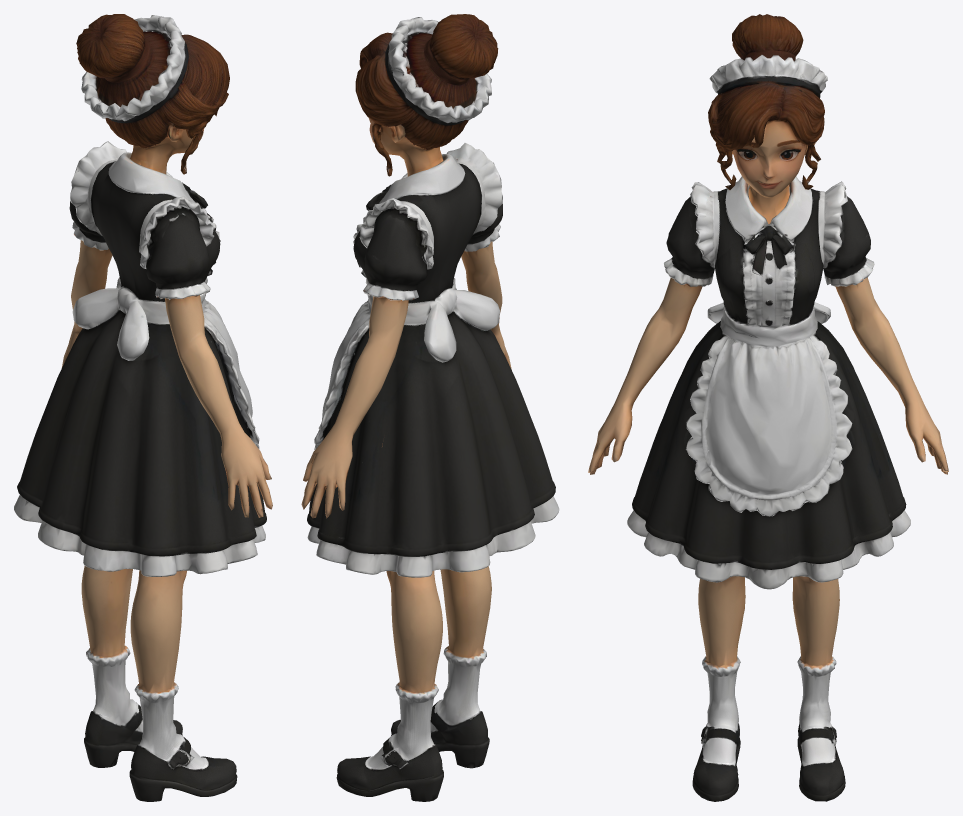
File: MaidNPC.glb
The picture shows the model from 3 angles, left to right: view 1: azimuth 30°, elevation 25°; view 2: azimuth 150°, elevation 25°; view 3: azimuth 270°, elevation 25°; orthographic projection. The views are drawn at different scales.
Visible parts, largest first — view 1: tripo_node_4350d9ce-93d7-44ef-a7cd-798329e3588b; view 2: tripo_node_4350d9ce-93d7-44ef-a7cd-798329e3588b; view 3: tripo_node_4350d9ce-93d7-44ef-a7cd-798329e3588b.
Part boxes in pixels (bbox=[...]): tripo_node_4350d9ce-93d7-44ef-a7cd-798329e3588b: bbox=[14, 14, 272, 801]; tripo_node_4350d9ce-93d7-44ef-a7cd-798329e3588b: bbox=[301, 14, 559, 801]; tripo_node_4350d9ce-93d7-44ef-a7cd-798329e3588b: bbox=[588, 14, 948, 801].
Size of the model in its own units: 0.2664 by 0.9795 by 0.4311.
1 material, 1 textured.
